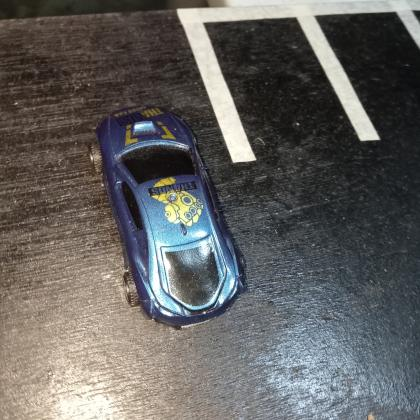Car: (88, 104, 249, 332)
